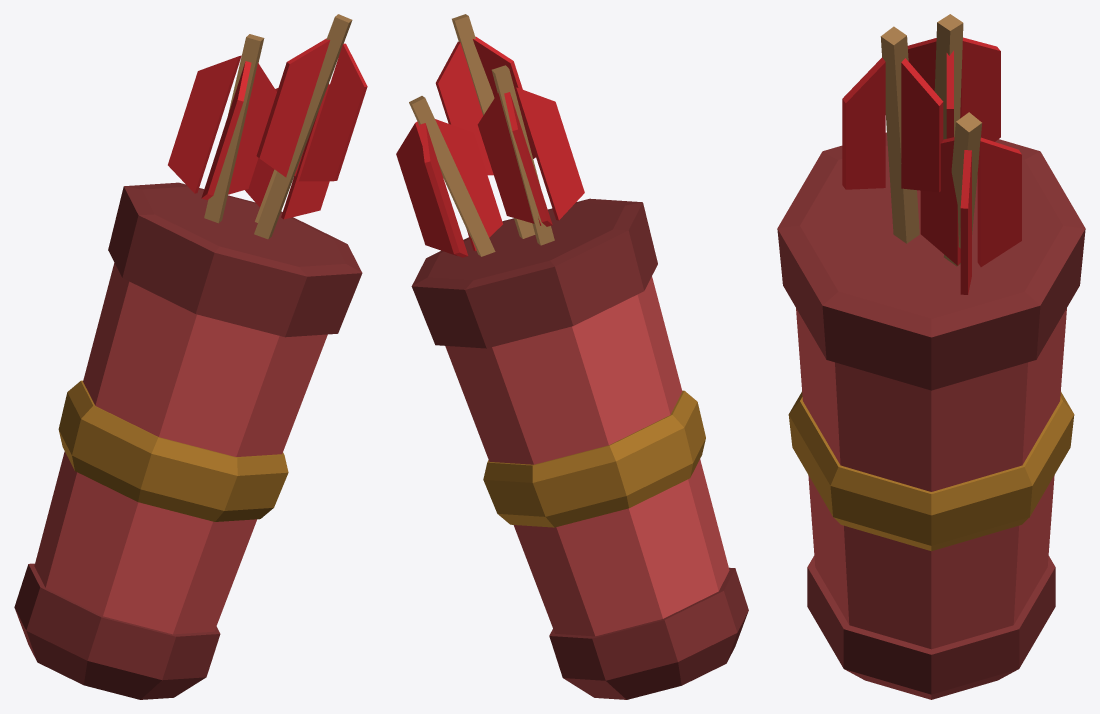
The model's file is quiver.glb.
3 renders of one model, left to right at view 1: azimuth 30°, elevation 25°; view 2: azimuth 150°, elevation 25°; view 3: azimuth 270°, elevation 25°, orthographic. The views are drawn at different scales.
Visible parts, largest first — view 1: quiver; view 2: quiver; view 3: quiver.
Boxes of the visible parts, x1=… form: quiver: x1=14, y1=14, x2=367, y2=699; quiver: x1=396, y1=14, x2=748, y2=699; quiver: x1=777, y1=14, x2=1085, y2=699.
Size of the model in its own units: 0.2483 by 0.4484 by 0.164.
